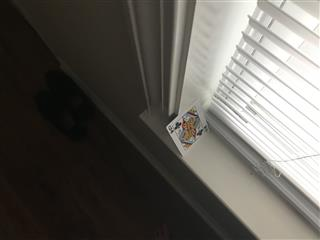QueenOfClubs: (165, 99, 209, 157)
